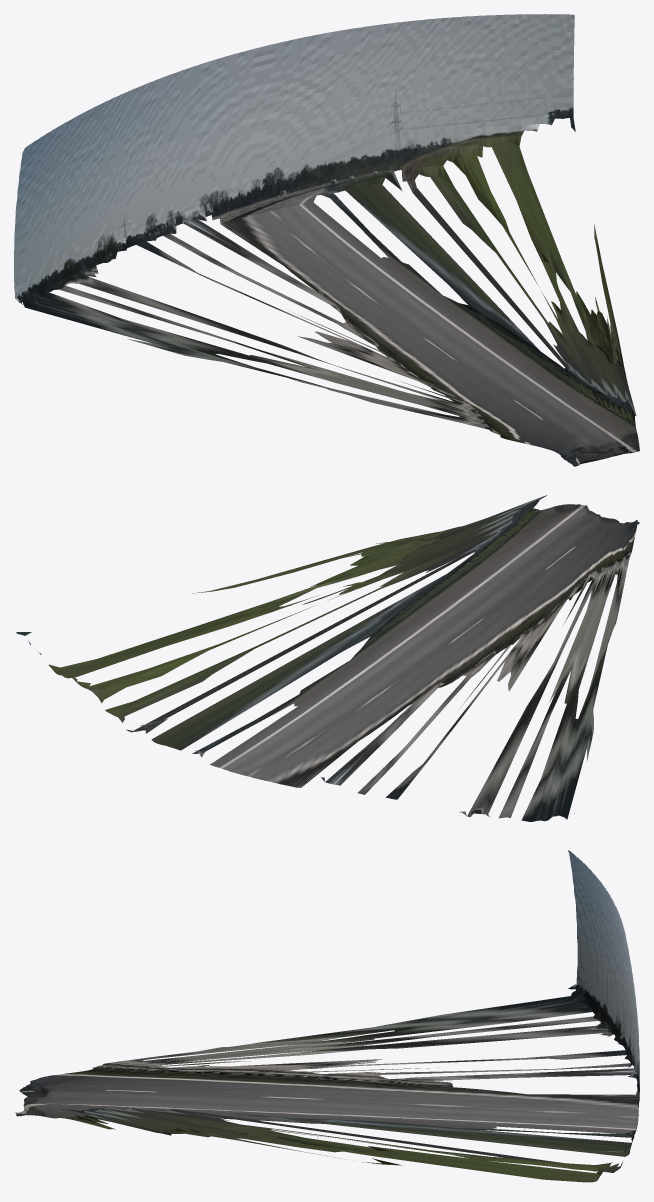
3 views of the same model, one above another, from view 1: azimuth 30°, elevation 25°; view 2: azimuth 150°, elevation 25°; view 3: azimuth 270°, elevation 25° (orthographic). The views are drawn at different scales.
Visible parts, largest first — view 1: defaultobject; view 2: defaultobject; view 3: defaultobject.
Part boxes in pixels (x1,y1,x2,y2): defaultobject: (14, 14, 639, 466); defaultobject: (16, 495, 639, 821); defaultobject: (15, 850, 639, 1182).
Size of the model in its own units: 41.14 by 12.34 by 44.82.
Materials: 1 (1 with a texture image).
